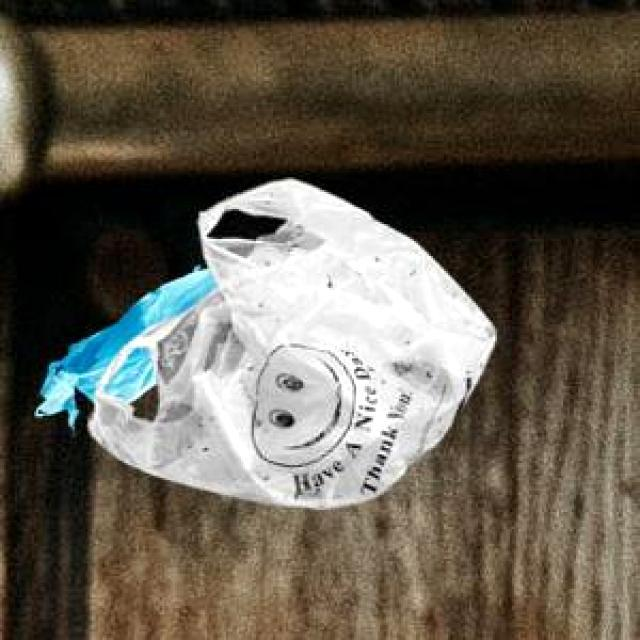Plastic_Bag: (86, 176, 492, 505), (36, 264, 214, 424)
